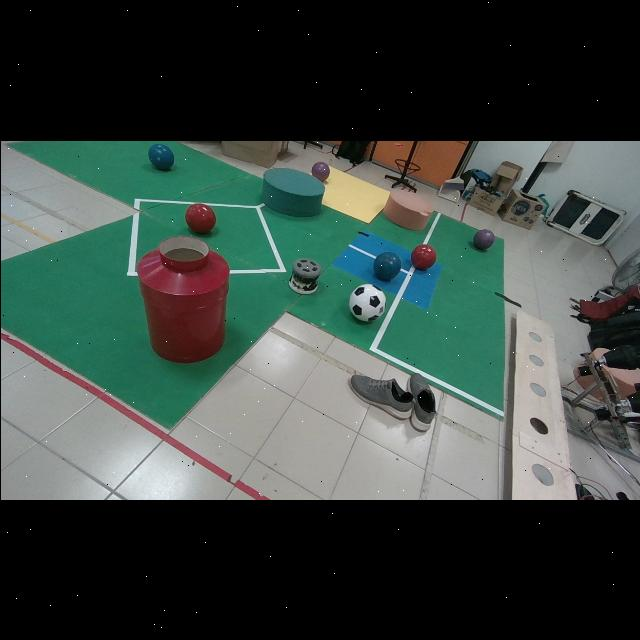B: (374, 251, 401, 280), (148, 143, 173, 170)
P: (474, 228, 494, 249), (311, 161, 329, 181)
R: (185, 202, 214, 233), (411, 243, 437, 269)
